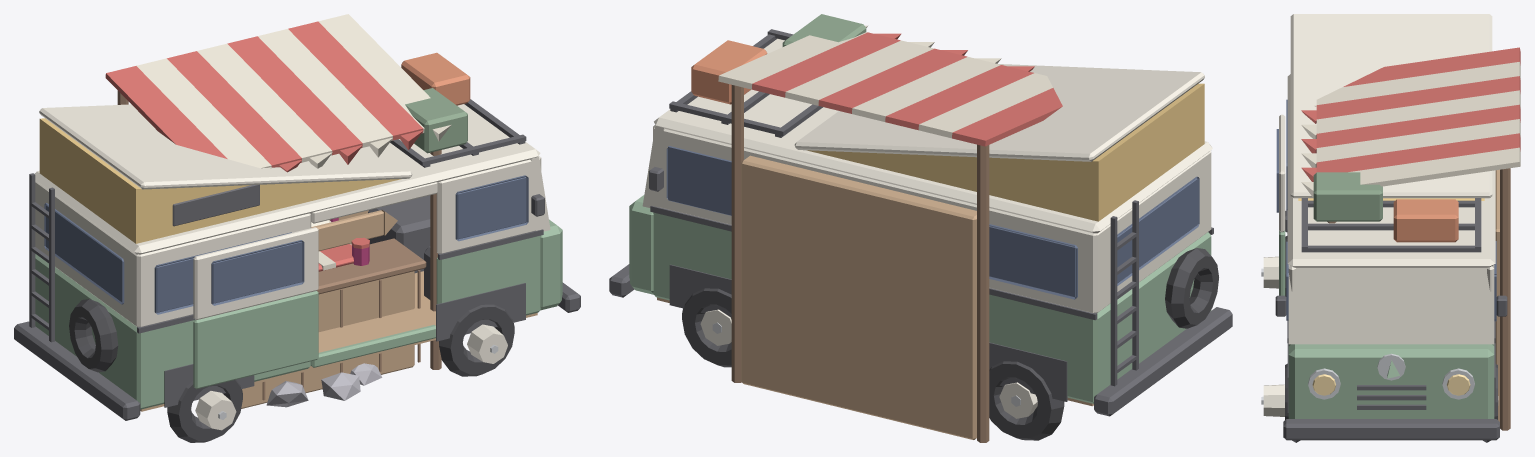
The model's file is camp.glb.
3 renders of one model, left to right at view 1: azimuth 30°, elevation 25°; view 2: azimuth 150°, elevation 25°; view 3: azimuth 270°, elevation 25°, orthographic. The views are drawn at different scales.
Visible parts, largest first — view 1: van, trading_post, fire_ring, signpost; view 2: van, trading_post; view 3: van, trading_post.
Boxes of the visible parts, x1,y1,x2,y2 form: van: (14,52,580,442); trading_post: (105,14,451,408); fire_ring: (266,363,382,407); signpost: (311,209,397,251); van: (609,14,1232,440); trading_post: (718,25,1062,442); van: (1261,14,1507,442); trading_post: (1301,47,1520,430).
Bounding box in the file's own units: 4.77 × 2.83 × 2.39.
